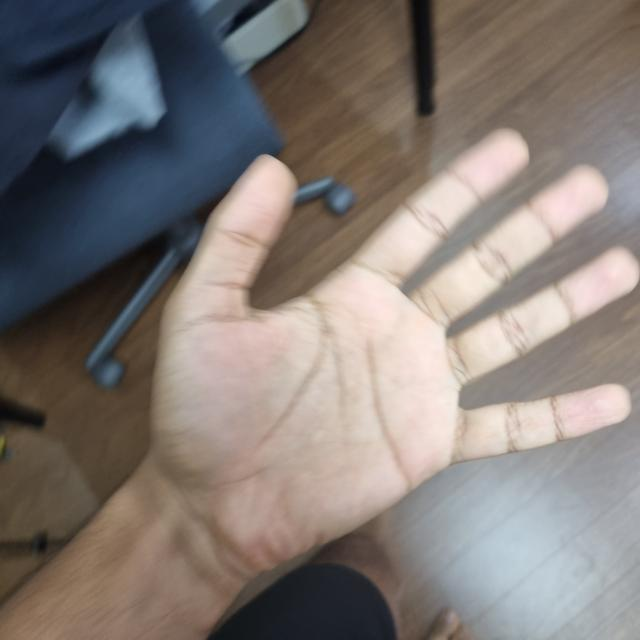Paper: (151, 139, 638, 571)
